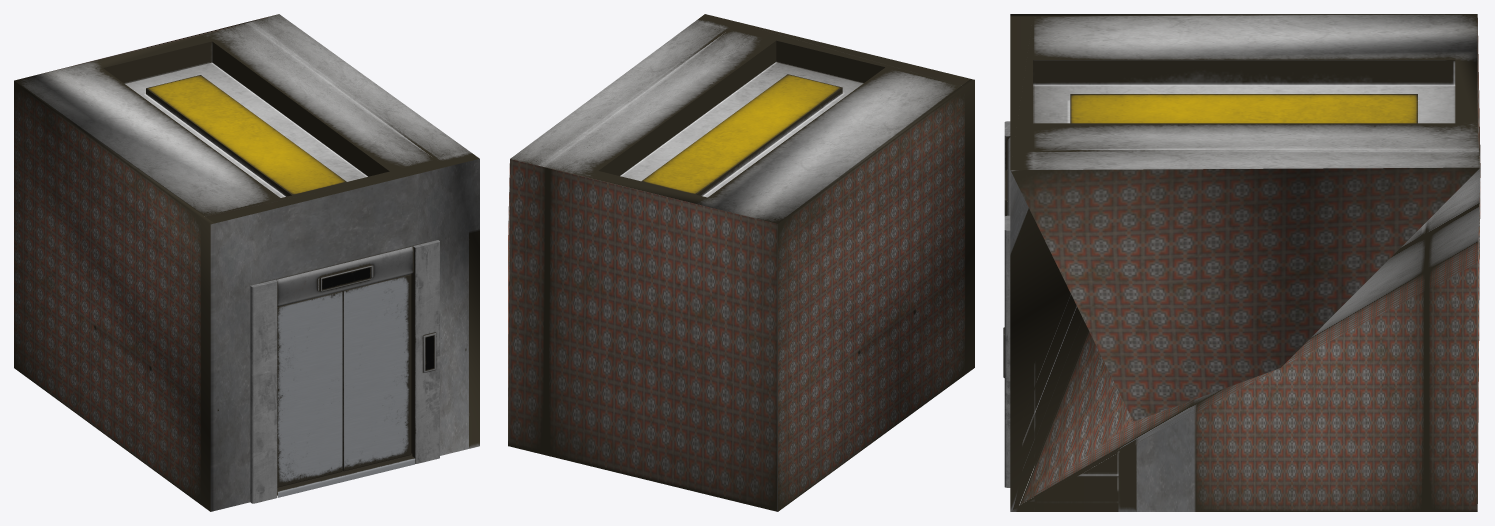
Rendered from Office (2).fbx.
3 views of the same model, side by side, from view 1: azimuth 30°, elevation 25°; view 2: azimuth 150°, elevation 25°; view 3: azimuth 270°, elevation 25° (orthographic). The views are drawn at different scales.
Visible parts, largest first — view 1: Sweep, BASE_2, L_2, R_2; view 2: Sweep; view 3: Sweep, BASE_2.
Boxes of the visible parts, x1,y1,x2,y2 form: Sweep: (14, 14, 479, 511); BASE_2: (250, 240, 439, 503); L_2: (342, 274, 411, 471); R_2: (277, 291, 342, 487); Sweep: (508, 14, 974, 511); Sweep: (1010, 14, 1480, 511); BASE_2: (1003, 121, 1010, 487).
Bounding box in the file's own units: 111 × 114 × 144.
Materials: 2 (2 with a texture image).
